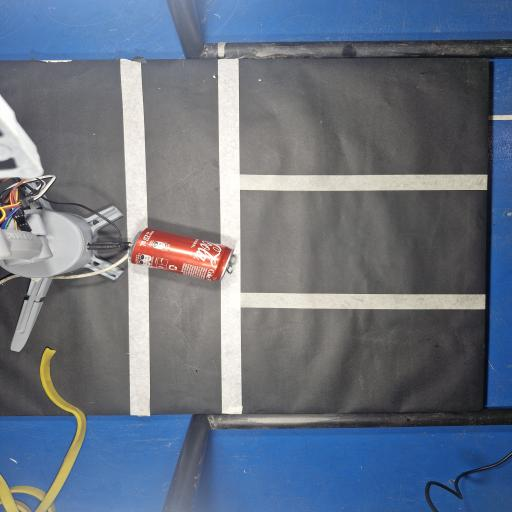lata: (130, 228, 234, 281)
